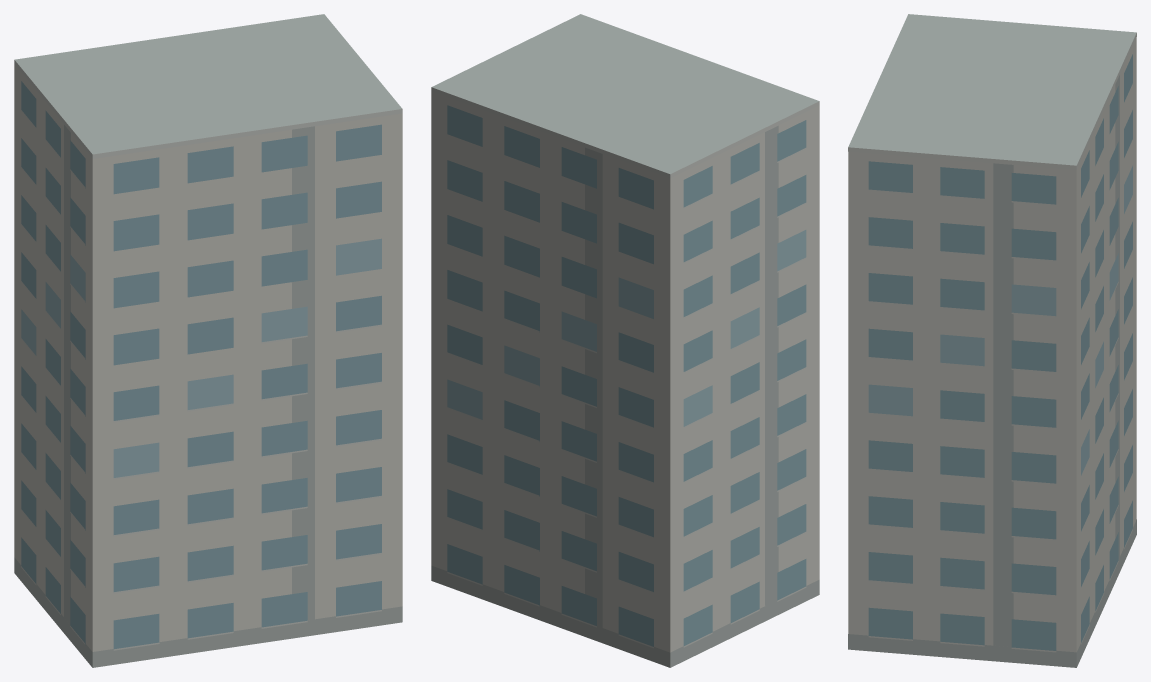
File: residential-1a14a577-5774-42f0-849d-677bbd9e2179.glb
3 renders of one model, left to right at view 1: azimuth 30°, elevation 25°; view 2: azimuth 150°, elevation 25°; view 3: azimuth 270°, elevation 25°, orthographic. The views are drawn at different scales.
Parts seen in each view (by area): view 1: residential-1a14a577-5774-42f0-849d-677bbd9e2179.tmp; view 2: residential-1a14a577-5774-42f0-849d-677bbd9e2179.tmp; view 3: residential-1a14a577-5774-42f0-849d-677bbd9e2179.tmp.
Part boxes in pixels (<box>): residential-1a14a577-5774-42f0-849d-677bbd9e2179.tmp: <box>14,14,402,667</box>; residential-1a14a577-5774-42f0-849d-677bbd9e2179.tmp: <box>431,14,819,667</box>; residential-1a14a577-5774-42f0-849d-677bbd9e2179.tmp: <box>848,14,1136,667</box>.
Bounding box in the file's own units: 18.14 × 28 × 14.59.
